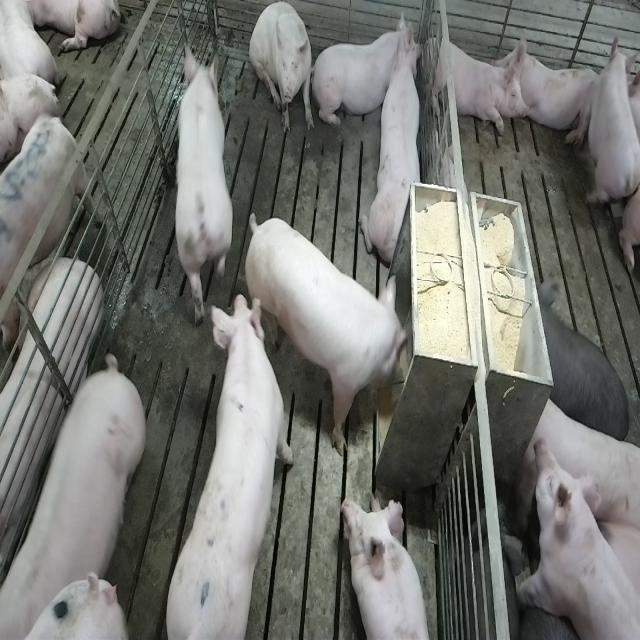Feeding: (248, 206, 417, 453)
Lateral_lying: (0, 258, 101, 611)
Sitting: (369, 14, 427, 269), (250, 3, 314, 138)
Standing: (159, 286, 297, 634), (4, 354, 151, 636), (513, 442, 637, 640), (0, 108, 93, 346), (168, 38, 233, 319), (520, 396, 638, 547), (542, 312, 636, 448)
Sternal_lying: (344, 492, 434, 640), (422, 23, 524, 144), (316, 16, 422, 128), (498, 30, 600, 141), (577, 30, 637, 204)
